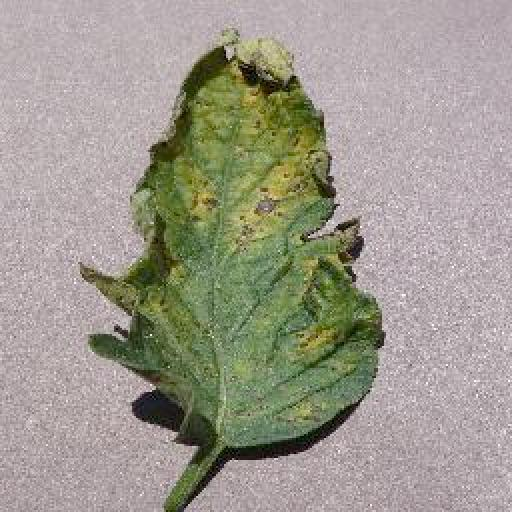disease_tomato: (80, 26, 386, 450)
